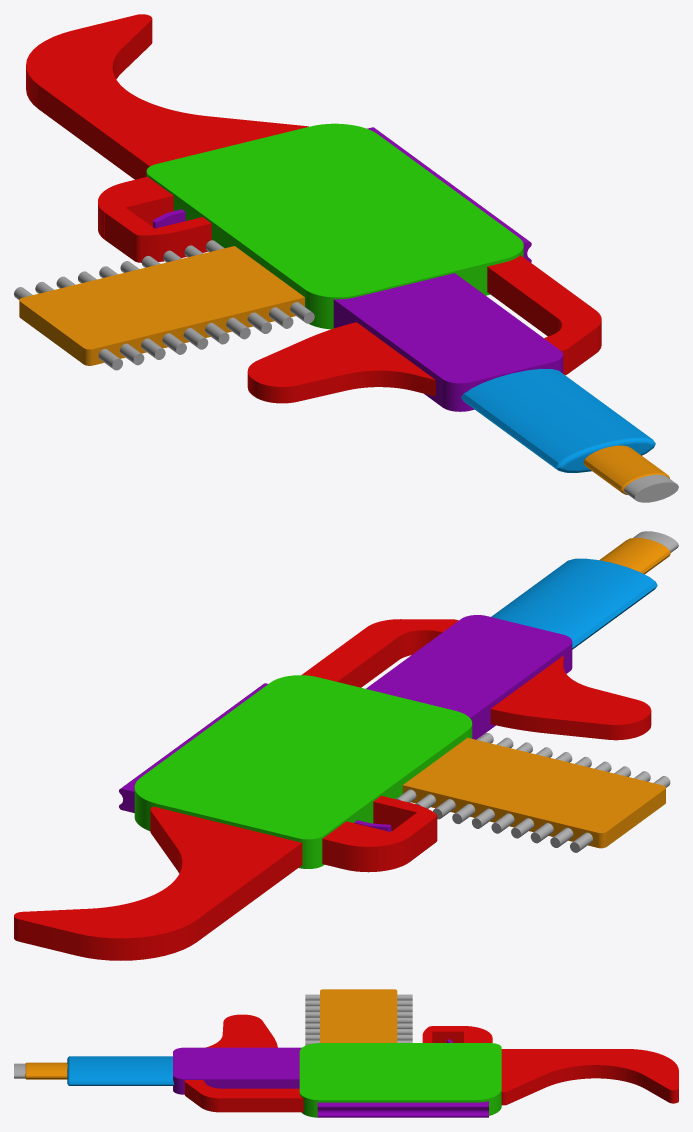
The model's file is Playdate Assault Rifle Model.fbx.
3 renders of one model, top to bottom at view 1: azimuth 30°, elevation 25°; view 2: azimuth 150°, elevation 25°; view 3: azimuth 270°, elevation 25°, orthographic. The views are drawn at different scales.
Visible parts, largest first — view 1: pCylinder15, pCylinder16, polySurface2, pCylinder13; view 2: pCylinder15, pCylinder16, polySurface2; view 3: pCylinder15, pCylinder16, polySurface1.
Boxes of the visible parts, x1,y1,x2,y2 form: pCylinder15: [19, 14, 669, 494]; pCylinder16: [14, 240, 314, 370]; polySurface2: [93, 302, 304, 365]; pCylinder13: [624, 474, 678, 502]; pCylinder15: [14, 537, 670, 960]; pCylinder16: [396, 733, 670, 852]; polySurface2: [403, 786, 597, 847]; pCylinder15: [25, 989, 678, 1117]; pCylinder16: [305, 994, 412, 1045]; polySurface1: [68, 1084, 501, 1114].
Bounding box in the file's own units: 62.28 × 4.33 × 148.
